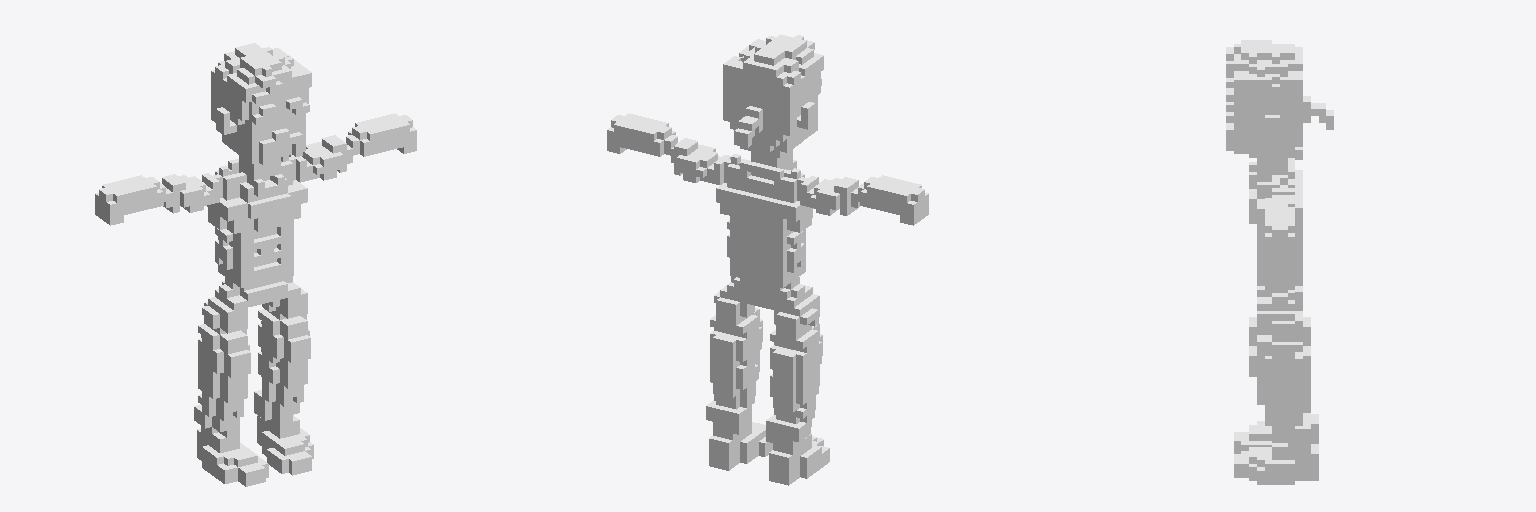
The model's file is VoxMix.obj.
3 views of the same model, side by side, from view 1: azimuth 30°, elevation 25°; view 2: azimuth 150°, elevation 25°; view 3: azimuth 270°, elevation 25° (orthographic).
Parts seen in each view (by area): view 1: object 1; view 2: object 1; view 3: object 1.
Boxes of the visible parts, <box> form: object 1: <box>95,43,416,486</box>; object 1: <box>607,34,928,485</box>; object 1: <box>1226,40,1333,484</box>.
Bounding box in the file's own units: 4.6 × 5.9 × 1.4.